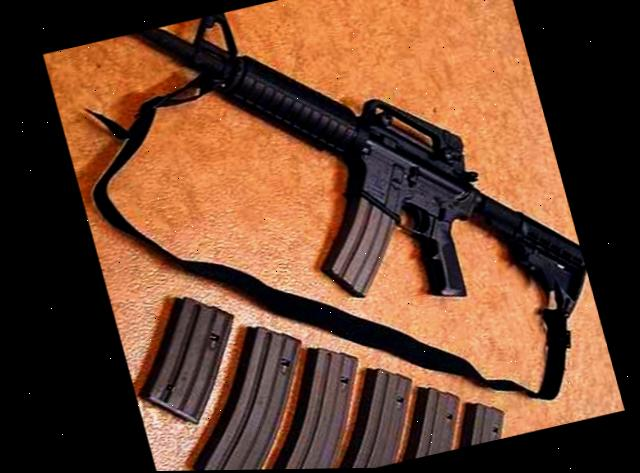rifle: (39, 0, 613, 473)
